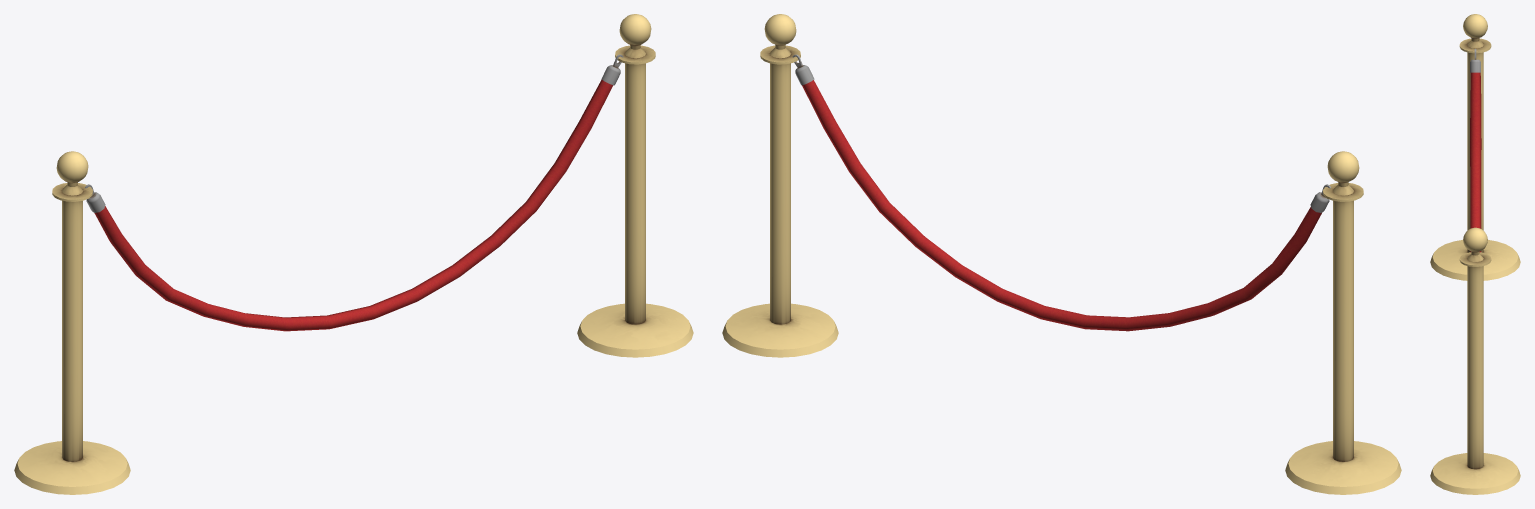
Rendered from barrier.fbx.
3 renders of one model, left to right at view 1: azimuth 30°, elevation 25°; view 2: azimuth 150°, elevation 25°; view 3: azimuth 270°, elevation 25°, orthographic. The views are drawn at different scales.
Parts seen in each view (by area): view 1: barrier; view 2: barrier; view 3: barrier.
Boxes of the visible parts, x1,y1,x2,y2 form: barrier: [14, 14, 693, 494]; barrier: [722, 14, 1401, 494]; barrier: [1430, 14, 1520, 494].
Bounding box in the file's own units: 141 × 64.58 × 21.45.
Materials: 1 (1 with a texture image).
